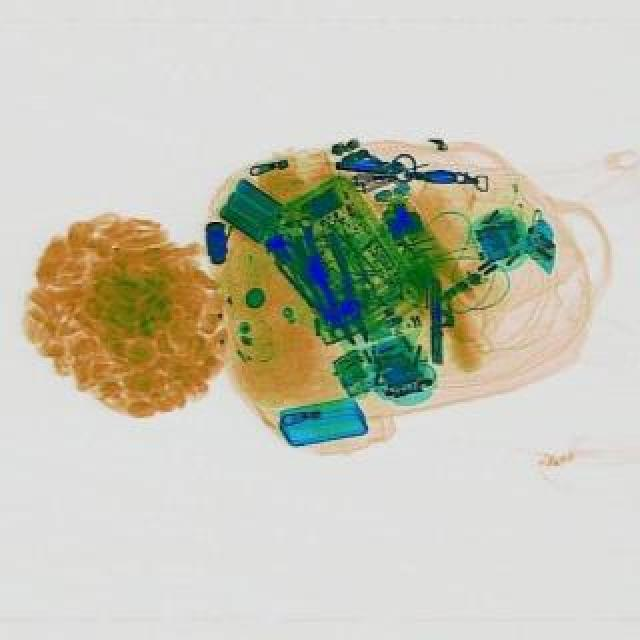scissors: (298, 214, 354, 338)
wrench: (276, 228, 392, 356)
